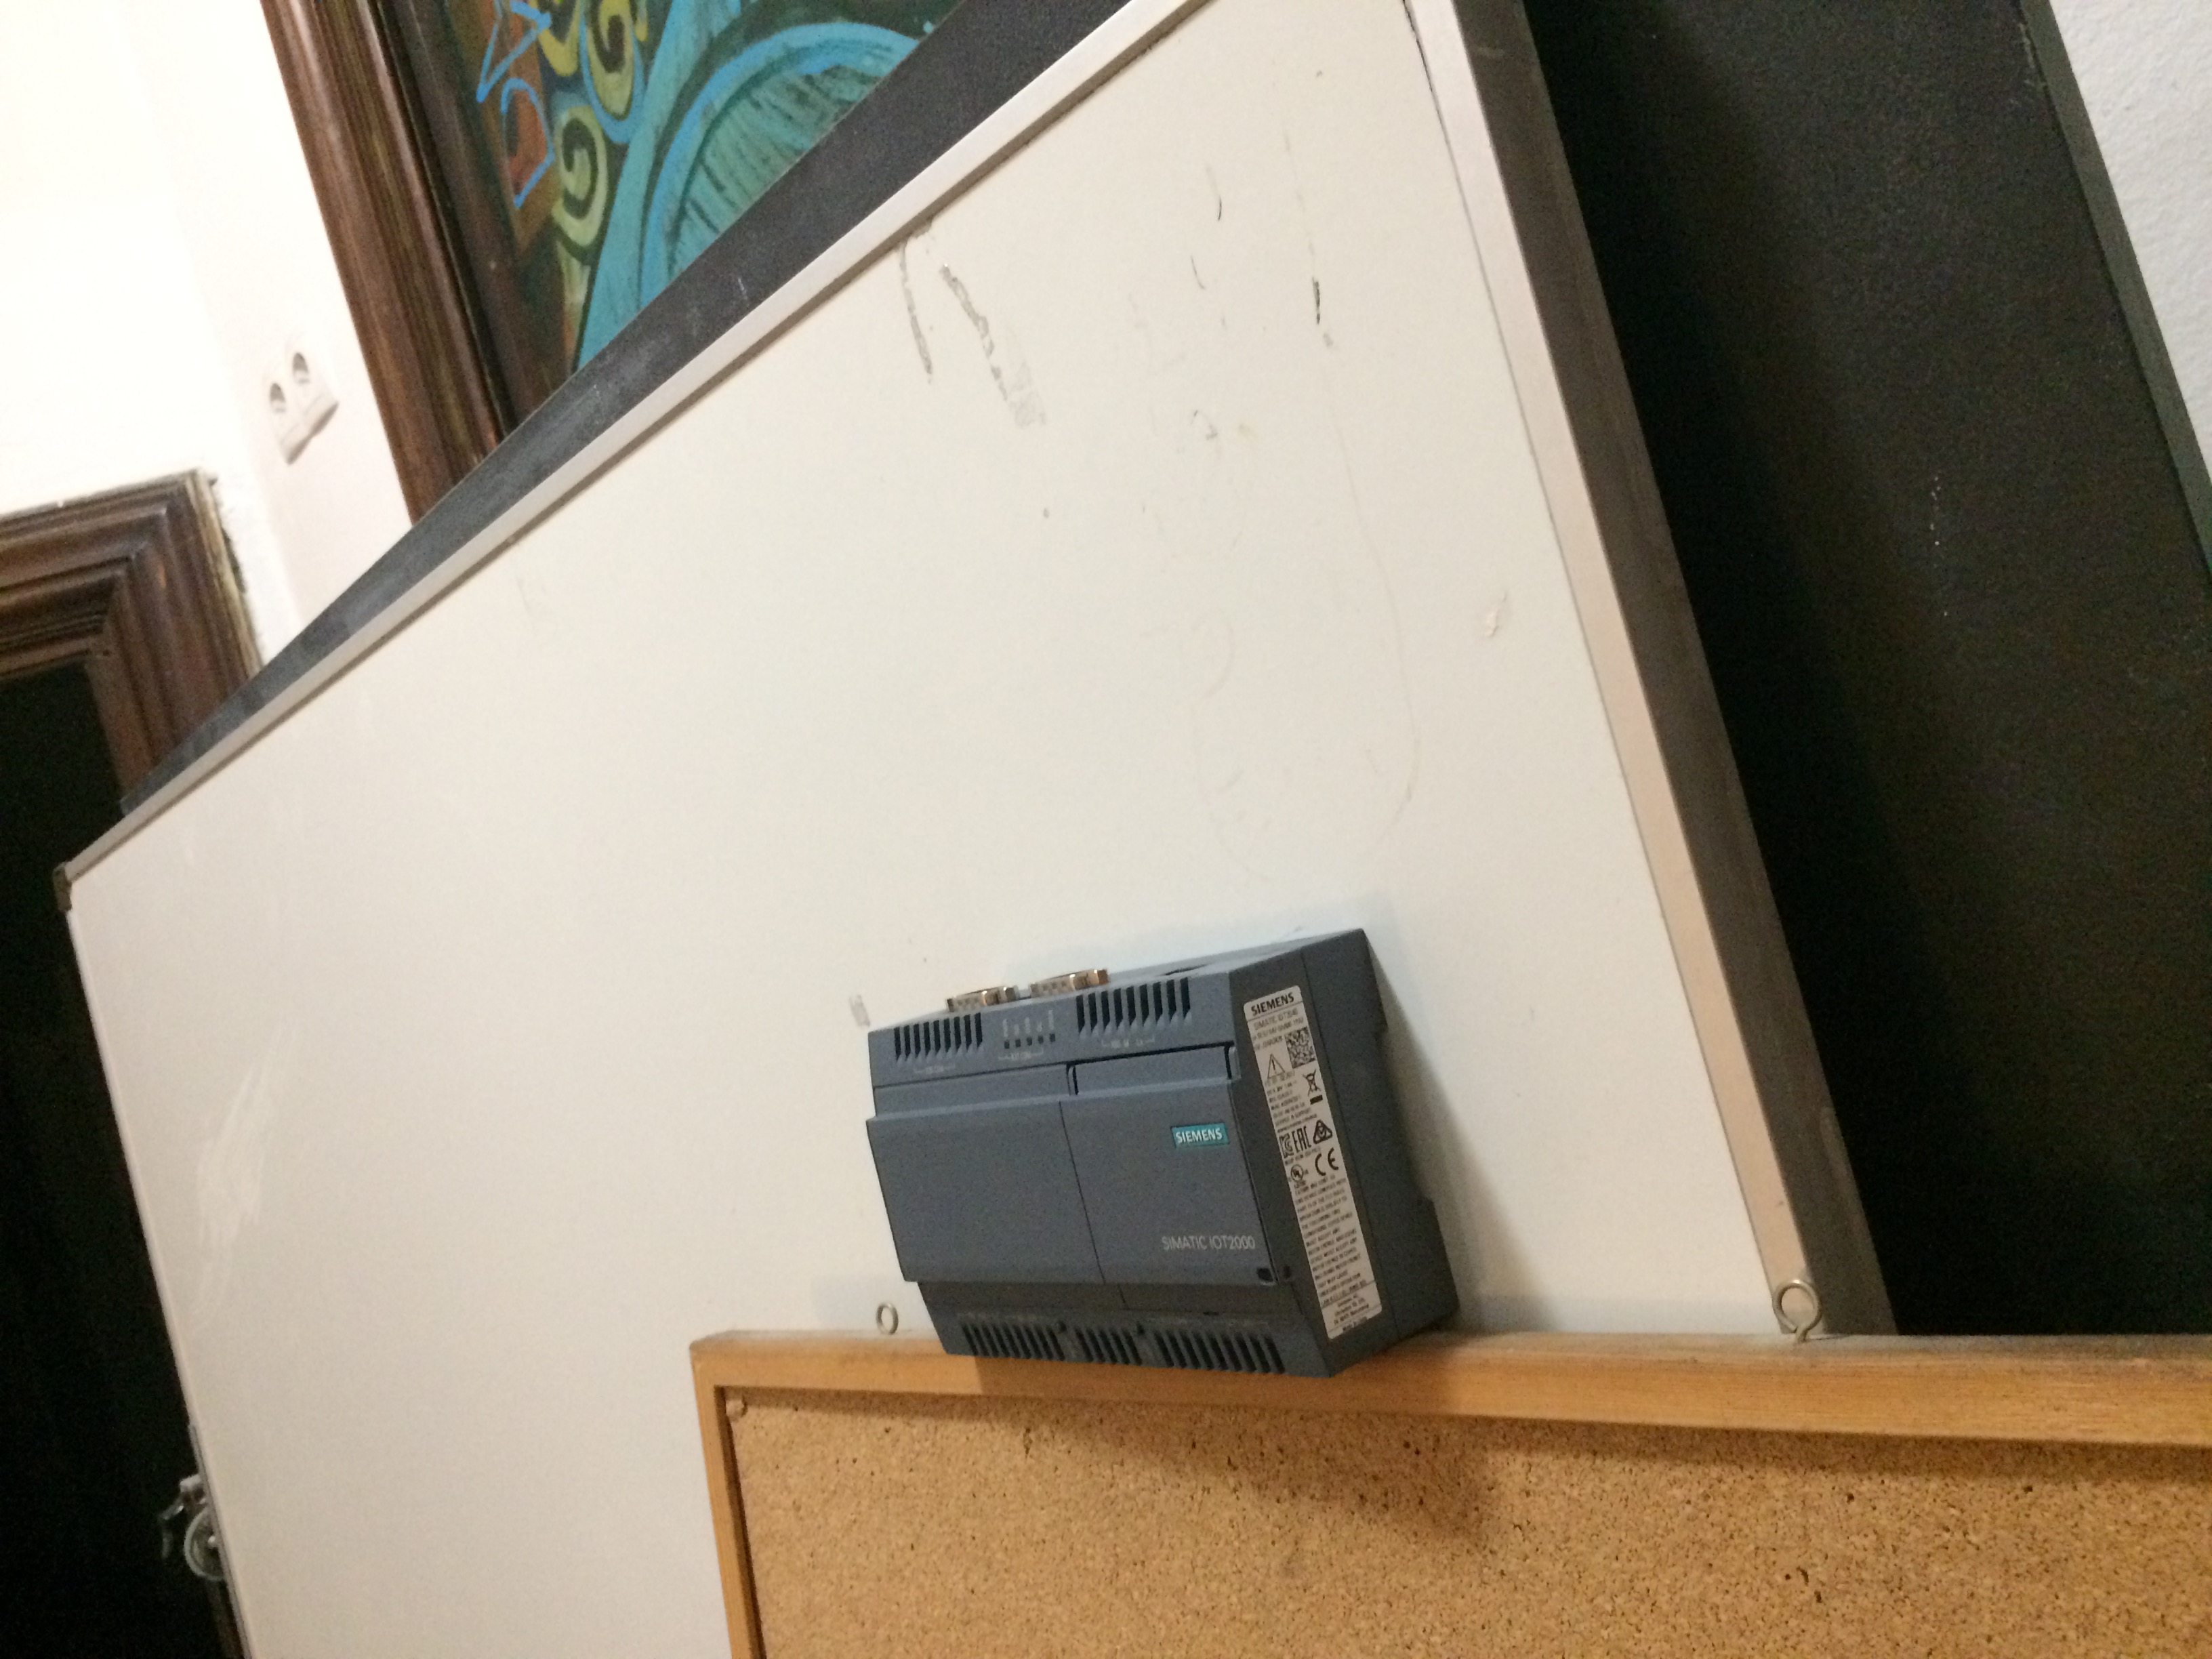iot2000: (862, 922, 1463, 1384)
